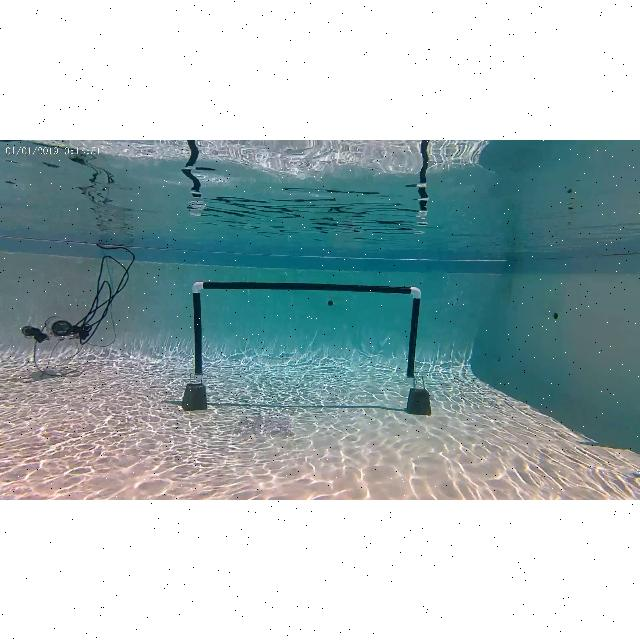prequal gate: (192, 281, 422, 383)
prequal gate leg l: (193, 282, 204, 390)
prequal gate leg r: (407, 285, 421, 381)
